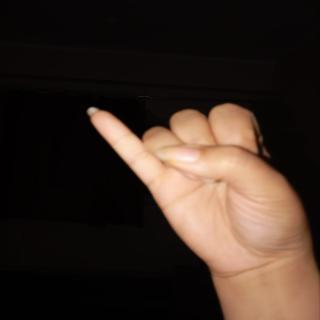MEEM: (84, 93, 320, 303)
